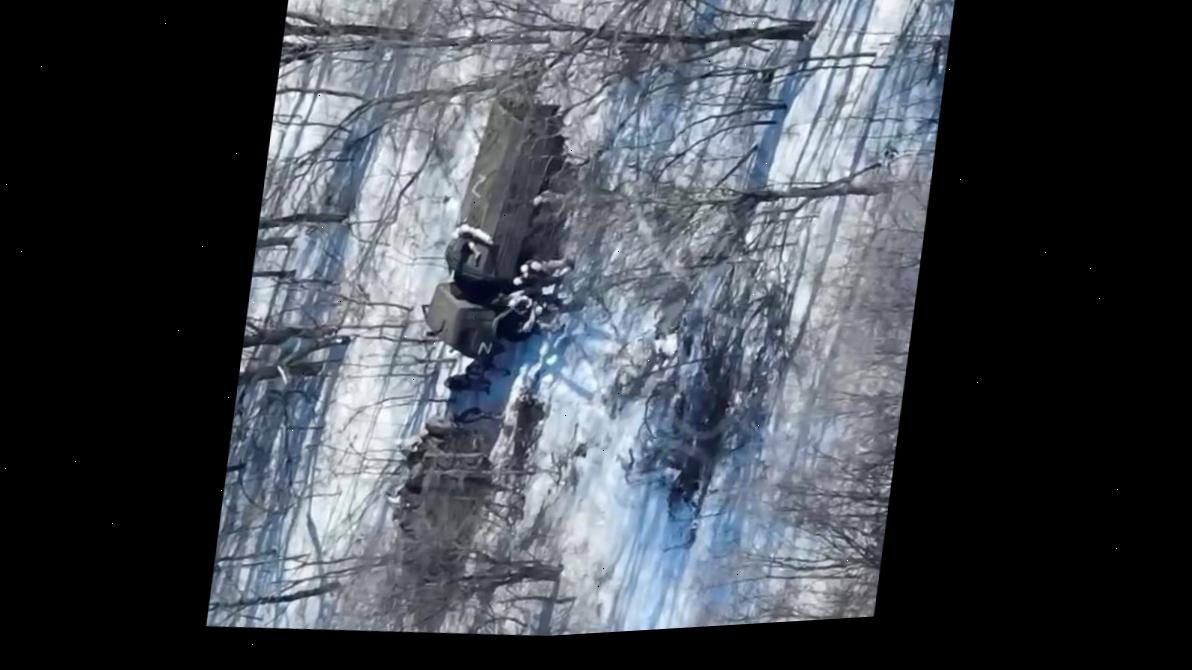armored_car: (375, 408, 494, 601)
person: (510, 297, 568, 339), (496, 285, 552, 317), (517, 251, 574, 281), (441, 369, 493, 399), (529, 185, 579, 211), (510, 268, 563, 290)
truck: (413, 87, 591, 370)
